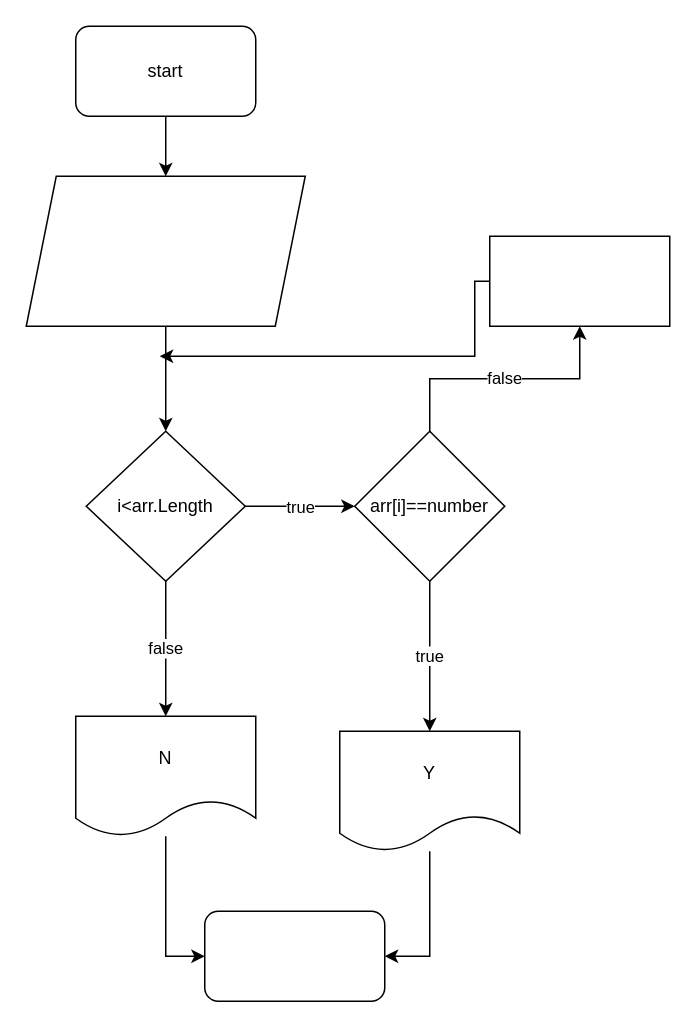
The diagram is 696 pixels wide and 1028 high, and some of its shapes have lost their labels. Here are the shapes that lost their labels. From the top down, the centre of each, then its label:
At point (165, 250): "int[]arr=[1,4,.6,32,23,44,77] i=0 Y=Yes N=No number=n".
At point (579, 280): "i++".
At point (294, 955): "end".
